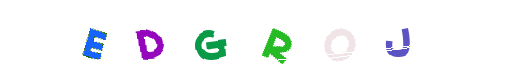0: (222, 0, 302, 80)
D: (109, 0, 189, 80)
E: (54, 0, 134, 80)
G: (170, 0, 250, 80)
J: (343, 0, 423, 80)
R: (195, 0, 275, 80)
